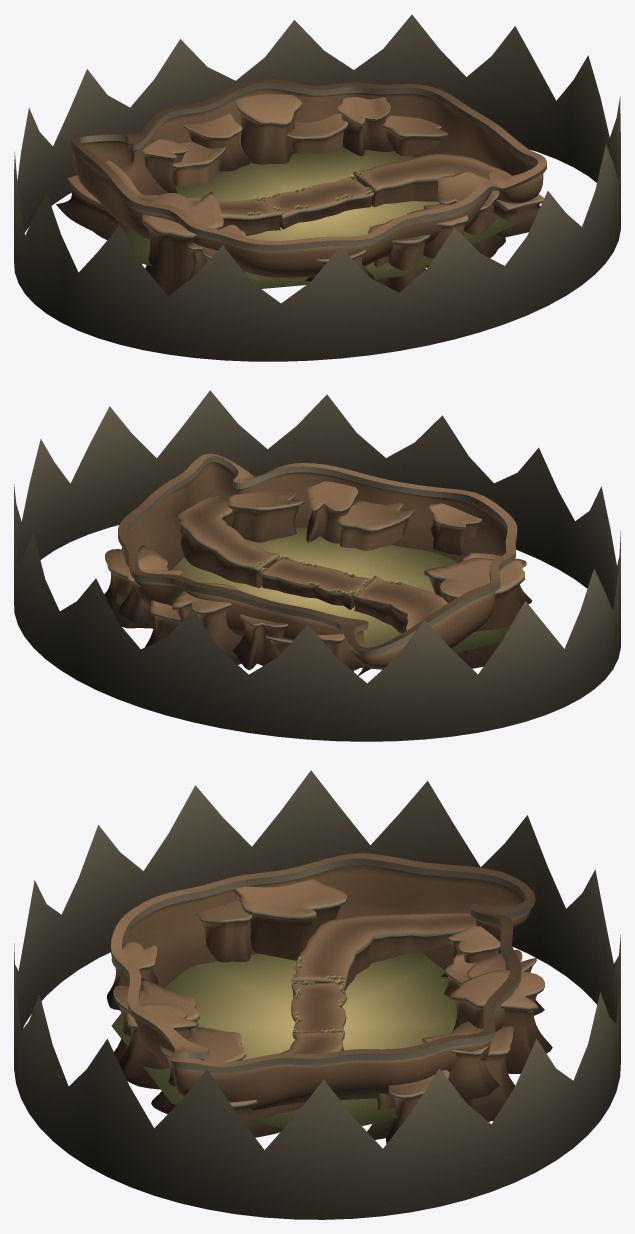
File: BOG_SET_V01.fbx
3 views of the same model, one above another, from view 1: azimuth 30°, elevation 25°; view 2: azimuth 150°, elevation 25°; view 3: azimuth 270°, elevation 25° (orthographic). The views are drawn at different scales.
Visible parts, largest first — view 1: MOUNTAINS, WALLS, ROAD, WATER; view 2: MOUNTAINS, WALLS, ROAD, WATER; view 3: MOUNTAINS, WALLS, WATER, ROAD.
Part boxes in pixels (x1=…): MOUNTAINS: x1=14, y1=14, x2=620, y2=361; WALLS: x1=70, y1=79, x2=546, y2=296; ROAD: x1=56, y1=154, x2=544, y2=239; WATER: x1=121, y1=147, x2=517, y2=288; MOUNTAINS: x1=14, y1=390, x2=620, y2=741; WALLS: x1=104, y1=453, x2=532, y2=671; ROAD: x1=178, y1=496, x2=467, y2=675; WATER: x1=116, y1=527, x2=511, y2=669; MOUNTAINS: x1=14, y1=770, x2=620, y2=1219; WALLS: x1=107, y1=853, x2=552, y2=1143; WATER: x1=111, y1=952, x2=466, y2=1128; ROAD: x1=168, y1=913, x2=475, y2=1137.
Size of the model in its own units: 118 by 25.35 by 97.85.
